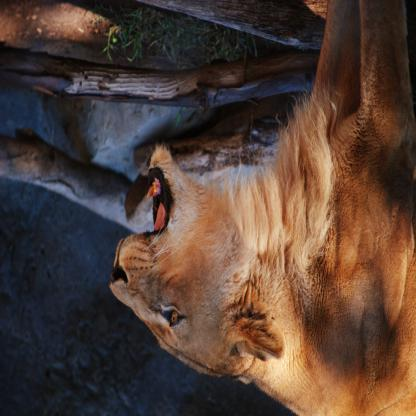lion: (108, 134, 276, 400)
